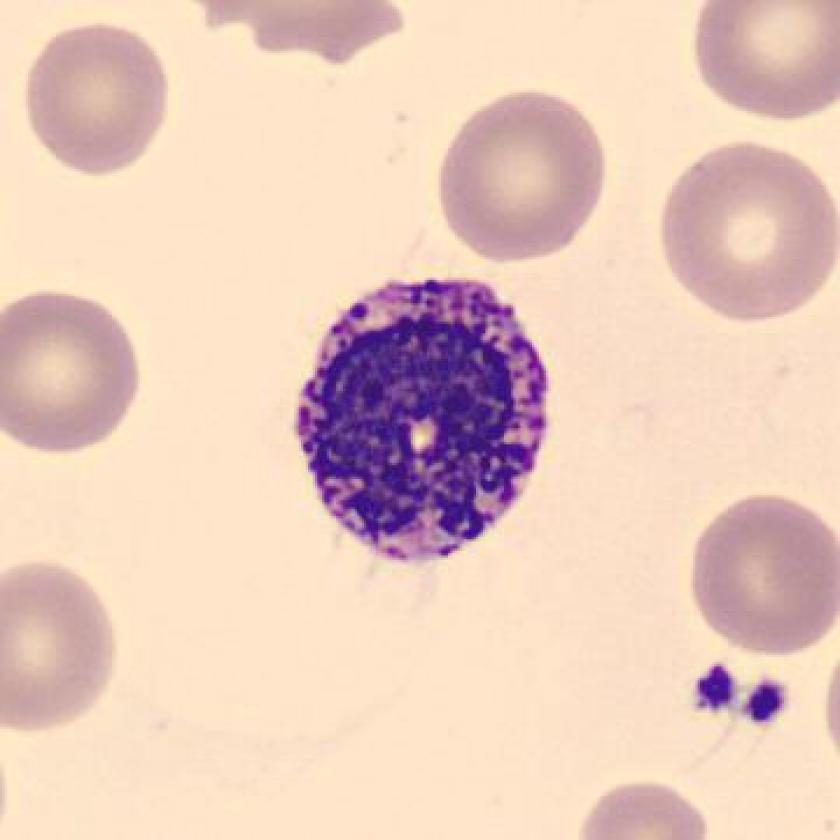basophil: (284, 258, 564, 577)
